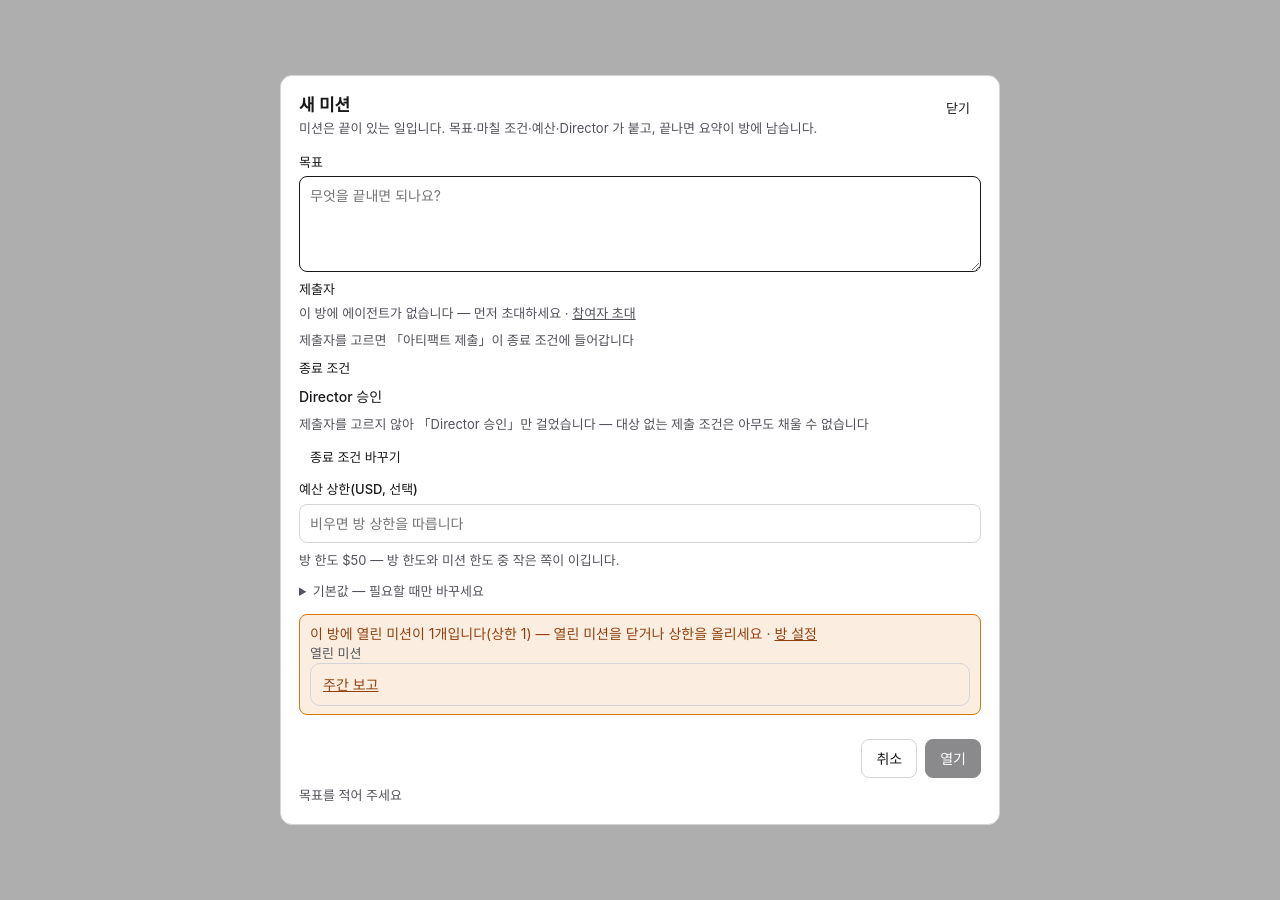
Test case: S21 미션 열기 › 동시 미션 상한 — 열기 전에 알린다(수는 슬롯) · 열린 미션 목록 · 방 설정 링크 · 「열기」 비활성
Expected: the list with test id "rd-create-work-open-works" reads "주간 보고", [323,674,378,695]
Step 1. Type "둘째" into the text box with test id "rd-create-work-goal" → {"x": 640, "y": 224}, box [299,176,981,272]
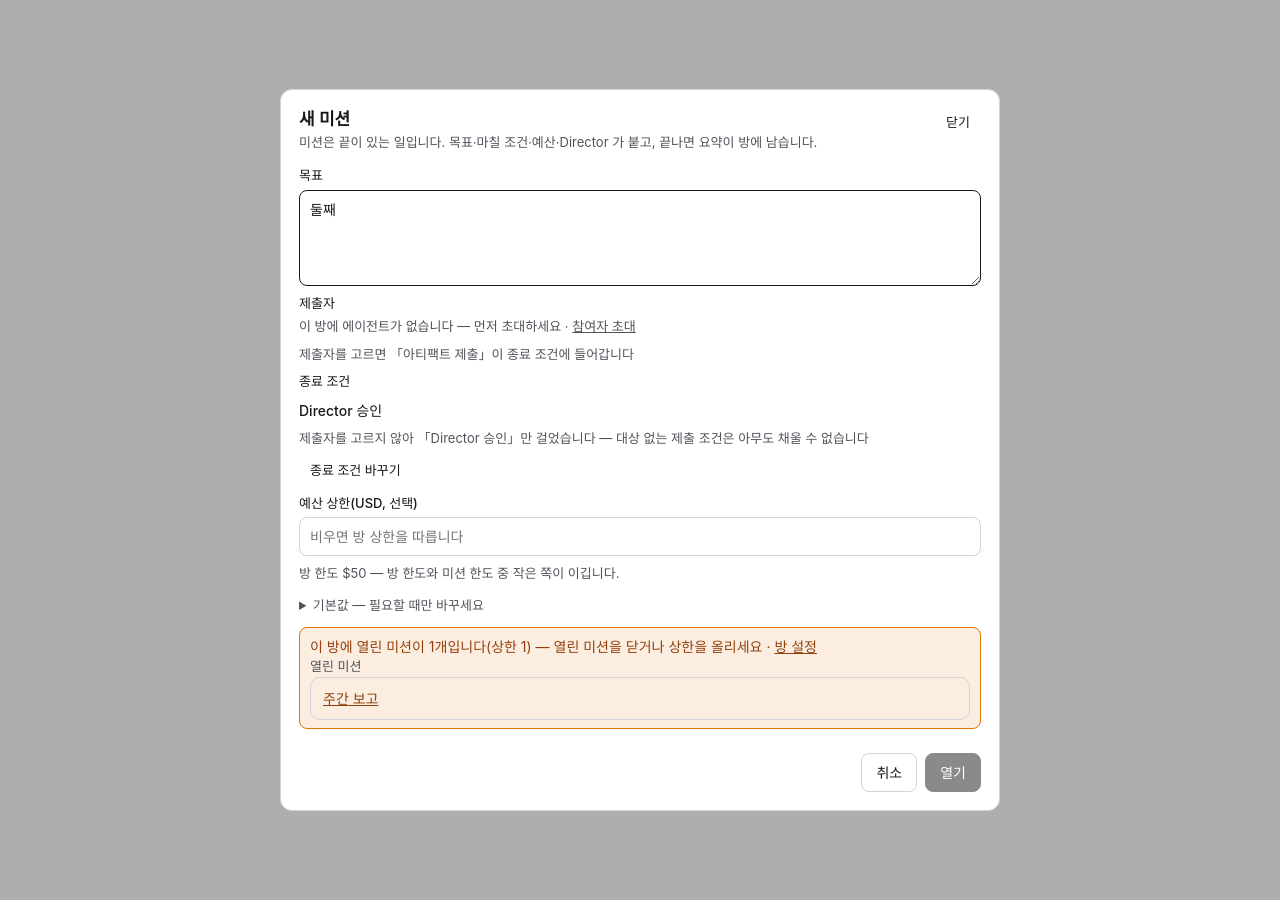
예산 줄 — 방 한도 $50 중 이 미션에 $20 · 작은 쪽이 이긴다.
Step 2. Type "20" into the field with test id "rd-create-work-budget" → {"x": 640, "y": 537}, box [299,518,981,556]
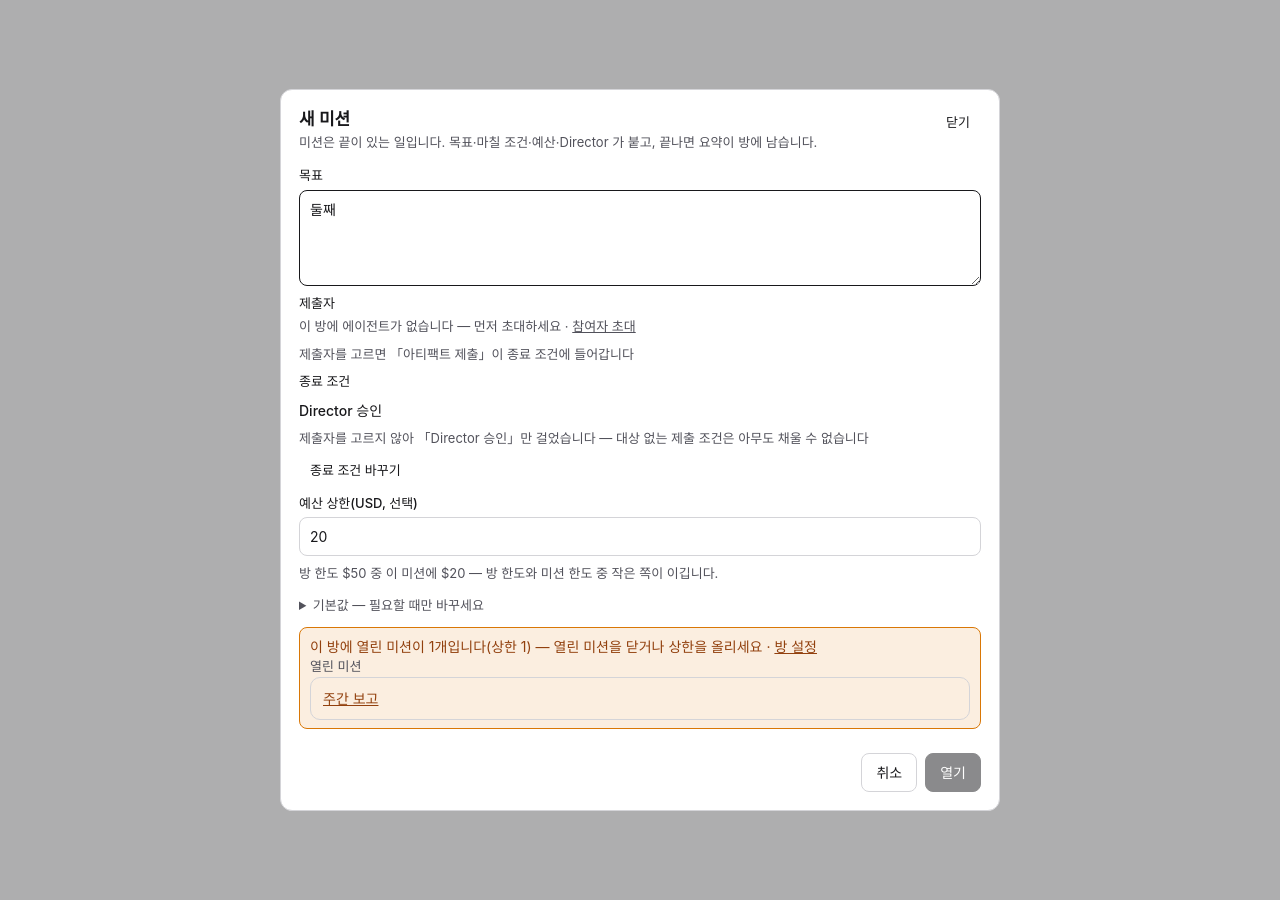
Expected: the element with test id "rd-create-work-budget-line" shows "방 한도와 미션 한도 중 작은 쪽이 이깁니다.", [486,566,718,582]
Now the element with test id "rd-create-work-budget-line" shows "방 한도 $50 중 이 미션에 $20", box [299,566,718,582]
